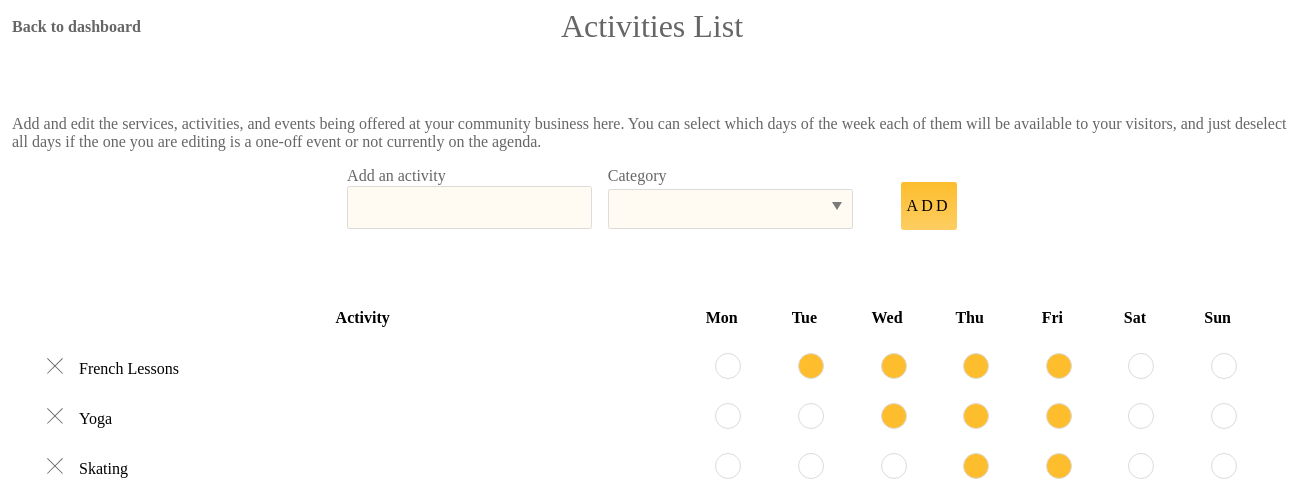
Test case: Activities Component › delete :: correct response deletes specified row
Step 1. Click the icon with test id "Delete French Lessons" → (55, 366), box [47, 358, 63, 374]
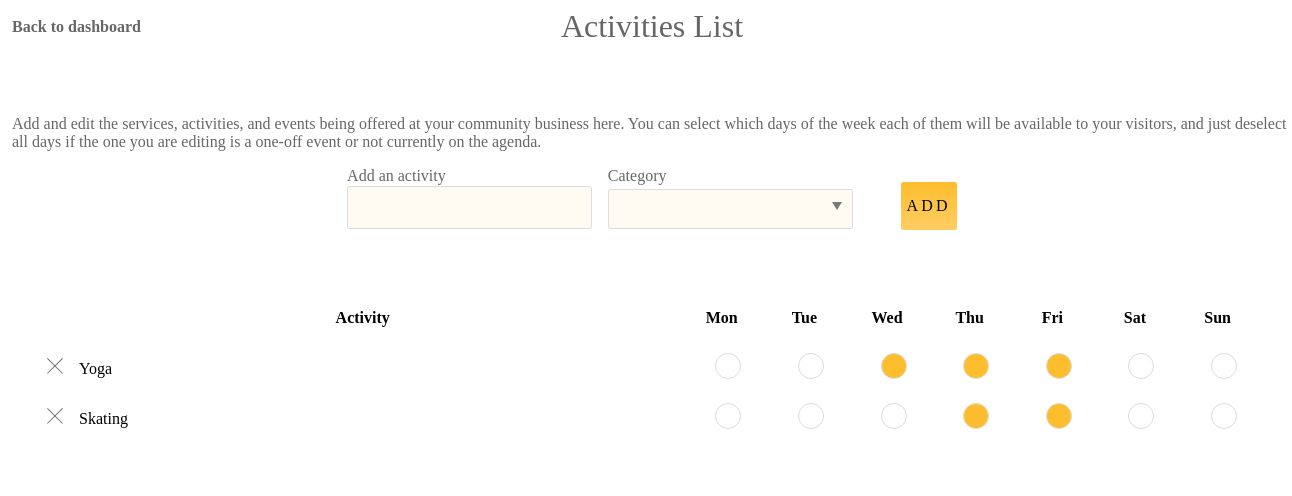
expect the text "French Lessons" is gone: met
